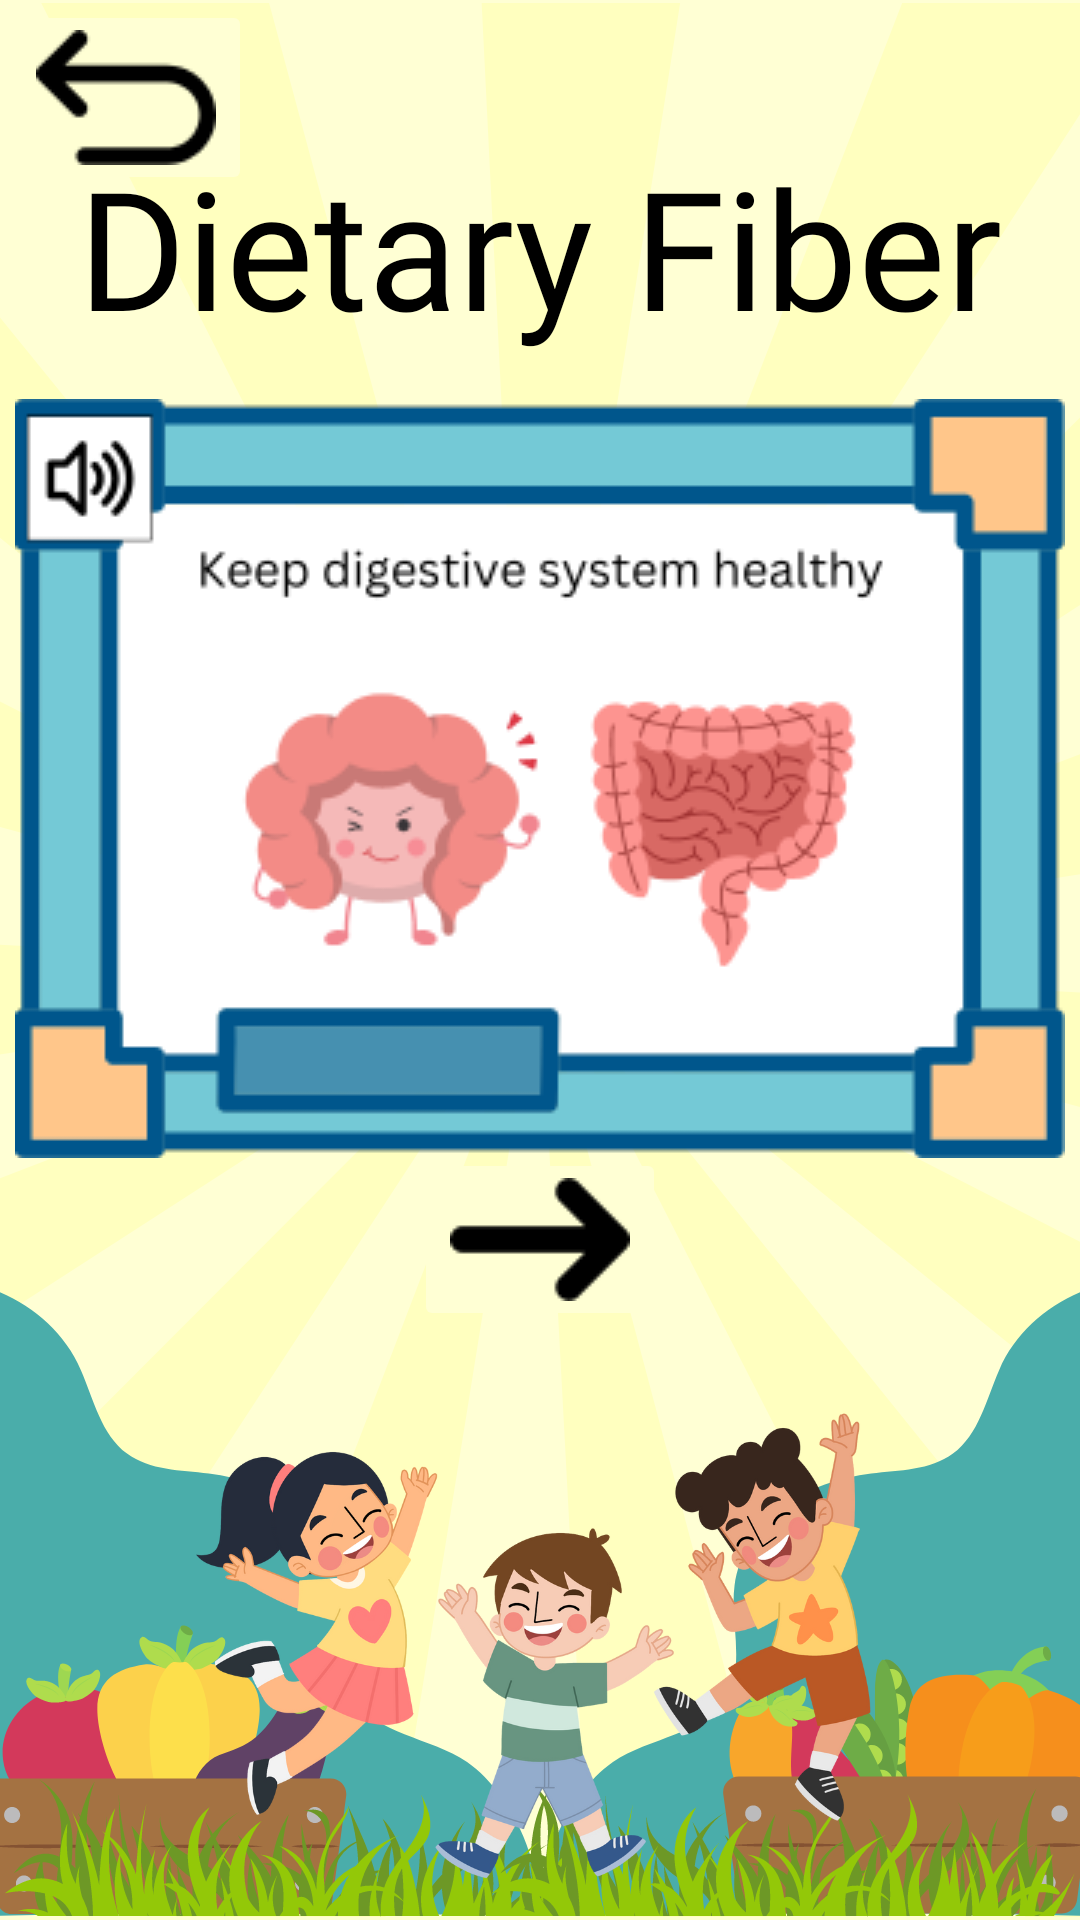

Icons on this 1080 x 1920 Android screen, each with its box as (x1, y1, x2, y2):
Back: (0, 0, 252, 195)
Next button: (450, 1178, 630, 1301)
